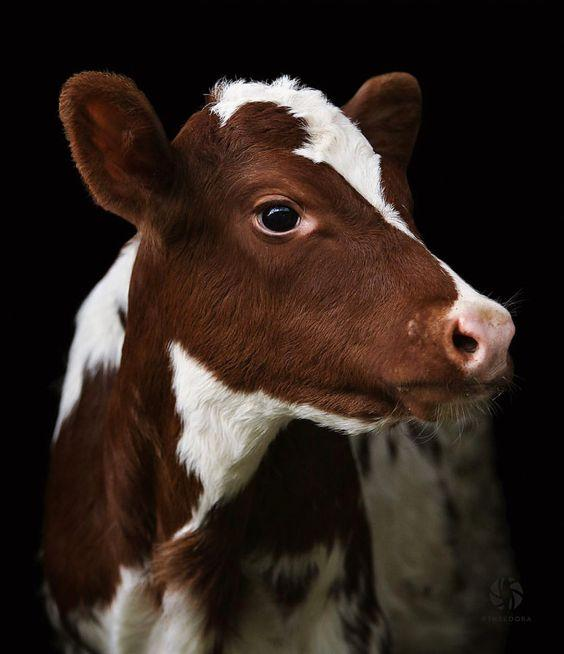cow: (60, 54, 548, 556)
